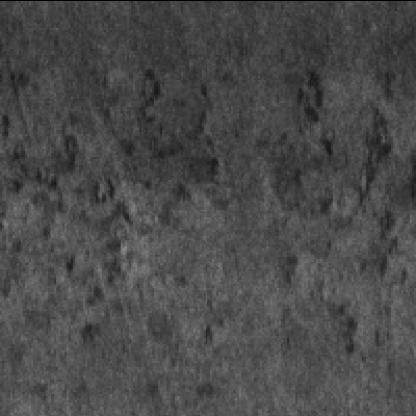rolled-in_scale: (21, 79, 189, 339), (296, 81, 412, 345)
